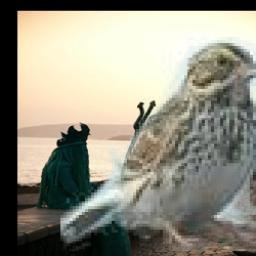Sparrow: (61, 38, 256, 252)
